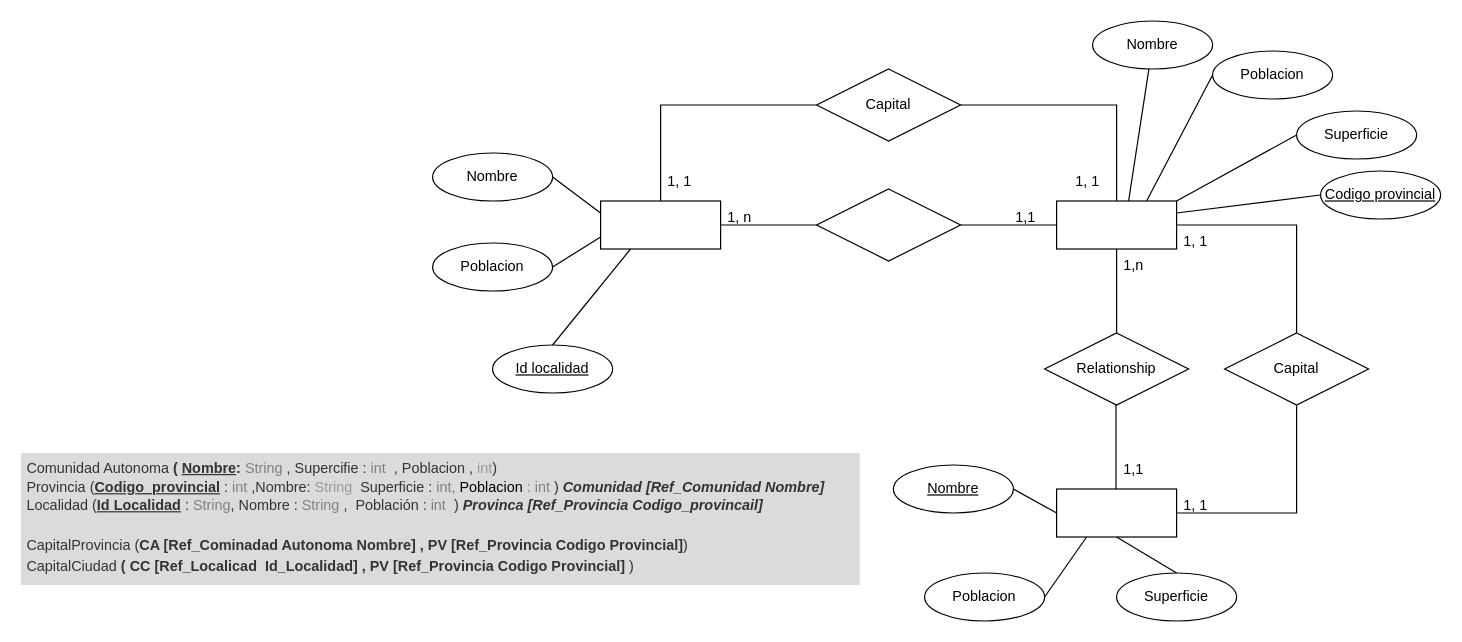
Some shapes in this 1462 by 642 pixel diagram are drawn without their labels. The centre of each missing label's shape, as x and y in pixels:
Comunidad Autonoma: the point at 1116,512
Localidad: the point at 660,224
Pertenece: the point at 888,224
Provincia: the point at 1116,224
